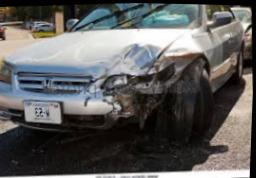Bonnet: (61, 28, 186, 76)
Bumper: (71, 76, 174, 130)
Light: (101, 63, 174, 90)
